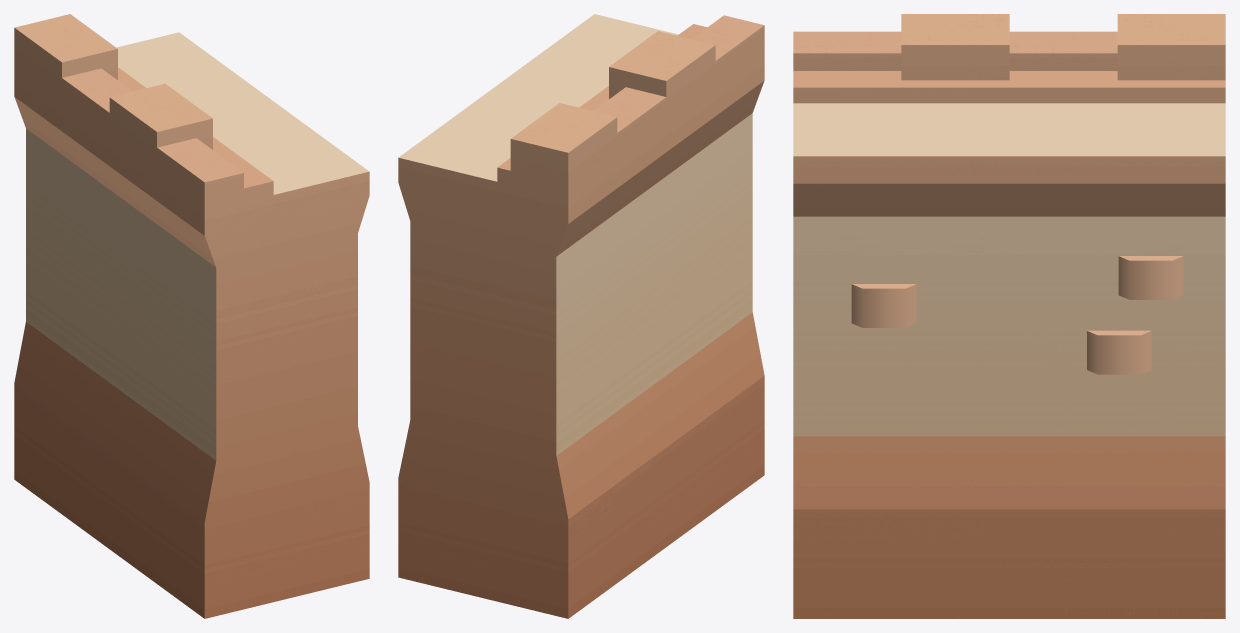
The model's file is wall-narrow.glb.
3 views of the same model, side by side, from view 1: azimuth 30°, elevation 25°; view 2: azimuth 150°, elevation 25°; view 3: azimuth 270°, elevation 25° (orthographic). The views are drawn at different scales.
Parts seen in each view (by area): view 1: wall-narrow; view 2: wall-narrow; view 3: wall-narrow.
Boxes of the visible parts, x1,y1,x2,y2 form: wall-narrow: (14,14,369,618); wall-narrow: (398,14,764,618); wall-narrow: (793,14,1225,618).
Bounding box in the file's own units: 0.5 × 1.31 × 1.
Materials: 1 (1 with a texture image).
